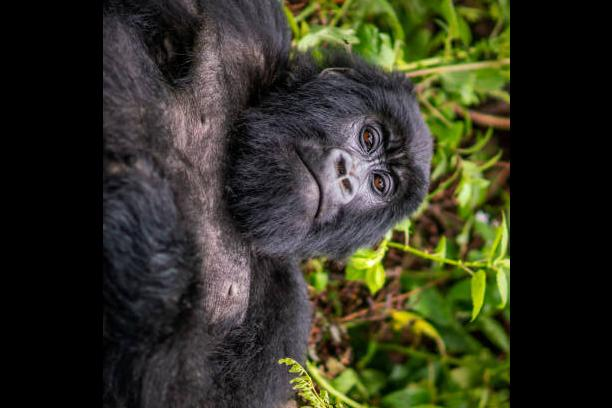goriile_montagne: (102, 0, 463, 408)
